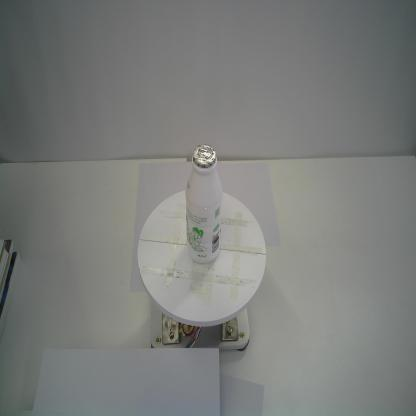Milk: (184, 143, 224, 267)
